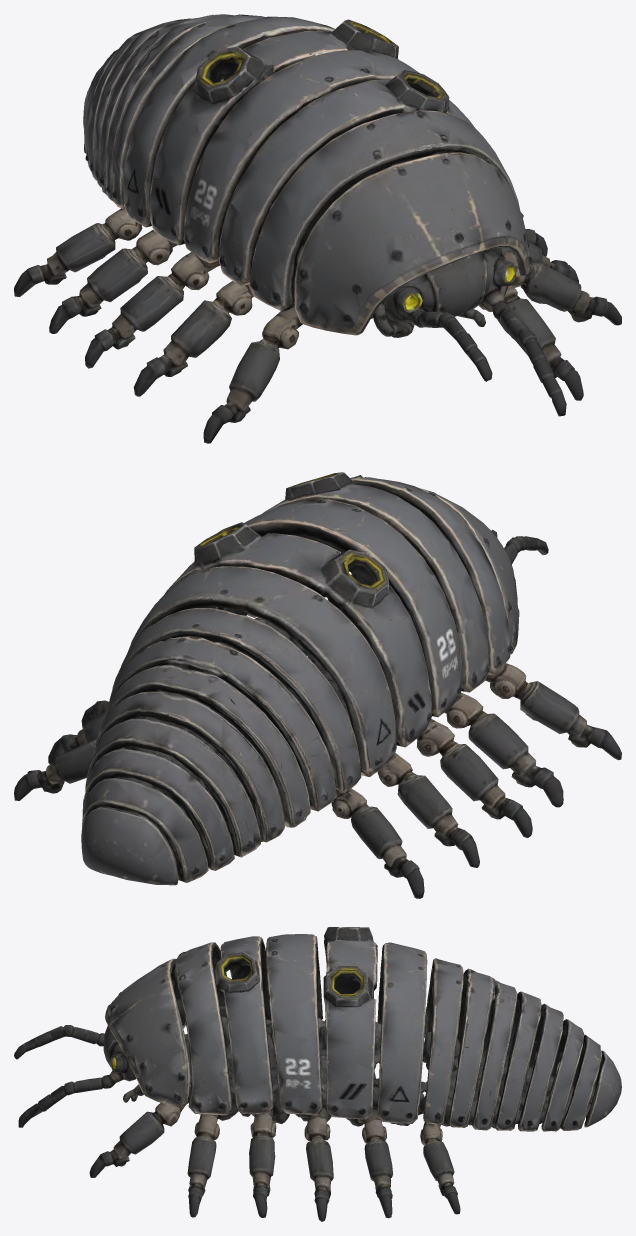
File: roly-poly.glb
The picture shows the model from 3 angles, top to bottom: view 1: azimuth 30°, elevation 25°; view 2: azimuth 150°, elevation 25°; view 3: azimuth 270°, elevation 25°; orthographic projection. The views are drawn at different scales.
Size of the model in its own units: 2.2 by 1.22 by 3.4.
Materials: 1 (1 with a texture image).
